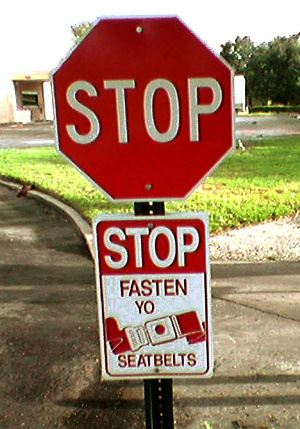stop sign: (48, 14, 284, 213)
